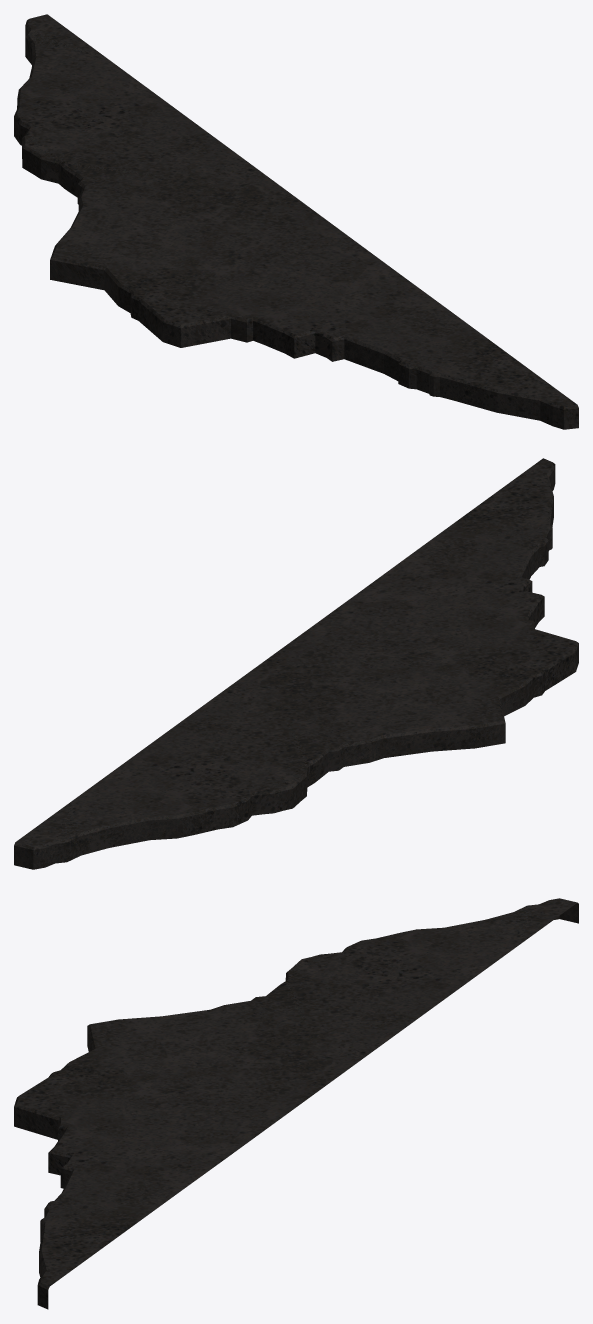
File: FloorDmgCorner02.fbx
3 renders of one model, top to bottom at view 1: azimuth 30°, elevation 25°; view 2: azimuth 150°, elevation 25°; view 3: azimuth 330°, elevation 25°, orthographic.
Parts seen in each view (by area): view 1: SM_ENV_NATURE_Cave_Floor_Dmg_Corner_02.mo; view 2: SM_ENV_NATURE_Cave_Floor_Dmg_Corner_02.mo; view 3: SM_ENV_NATURE_Cave_Floor_Dmg_Corner_02.mo.
Boxes of the visible parts, x1,y1,x2,y2 form: SM_ENV_NATURE_Cave_Floor_Dmg_Corner_02.mo: (14, 14, 578, 429); SM_ENV_NATURE_Cave_Floor_Dmg_Corner_02.mo: (14, 458, 578, 869); SM_ENV_NATURE_Cave_Floor_Dmg_Corner_02.mo: (14, 898, 578, 1309).
Bounding box in the file's own units: 348 × 30.56 × 1304.
Materials: 1 (1 with a texture image).
